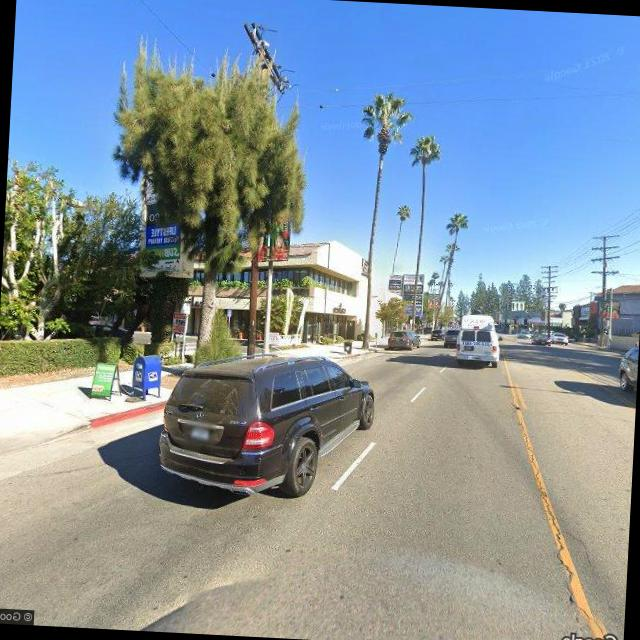crack: (507, 422, 612, 632)
